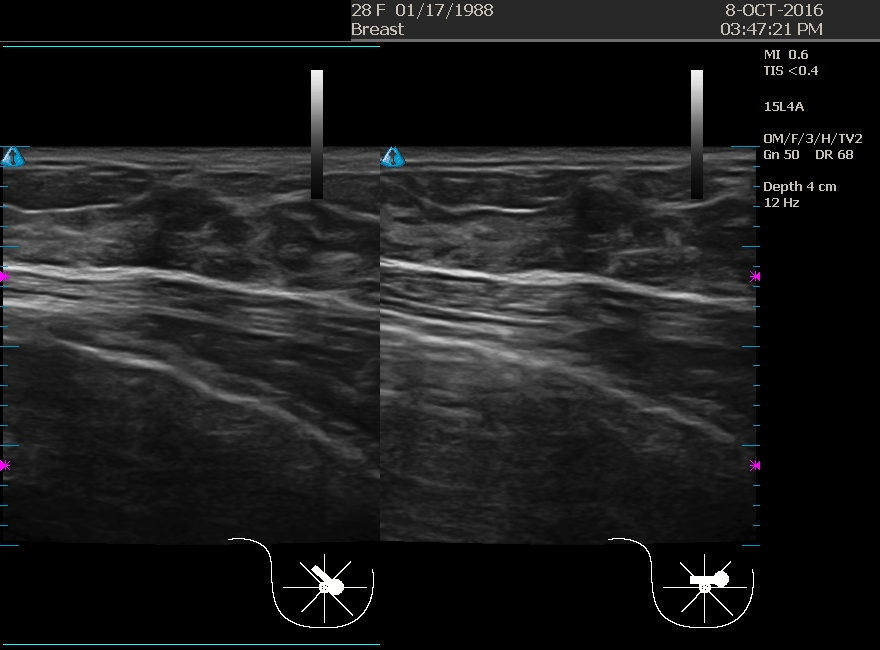BIRADS_3: (108, 151, 308, 352), (487, 151, 687, 351)
